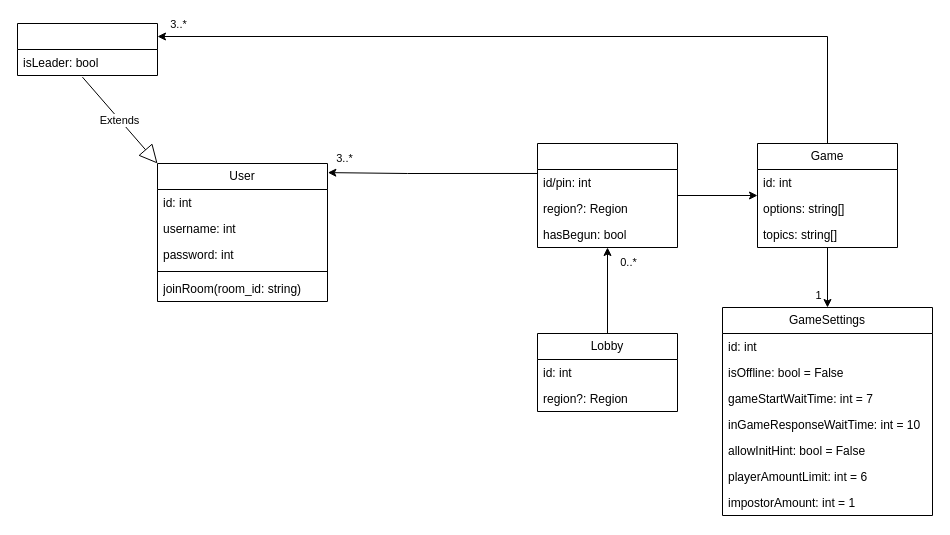
Some shapes in this 950 by 535 pixel diagram are drawn without their labels. Here are the shapes that lost their labels. From the top down, the box of each, then its label:
(16, 22, 158, 76): InGameUser
(536, 142, 678, 248): Room
